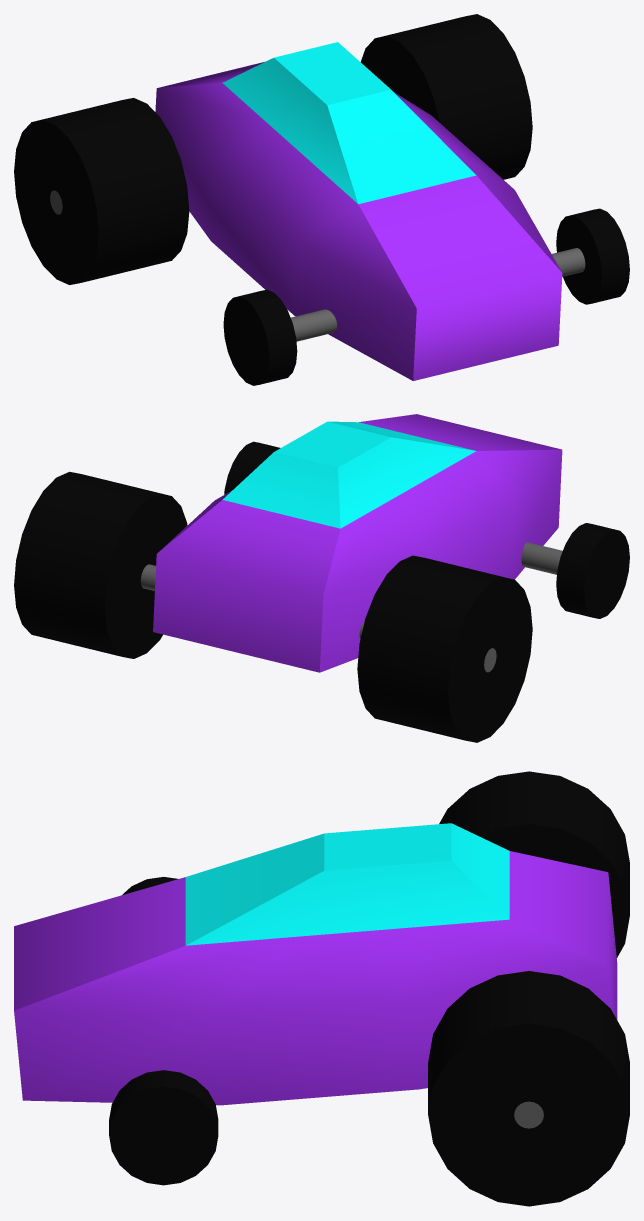
File: Hero.fbx
3 renders of one model, top to bottom at view 1: azimuth 30°, elevation 25°; view 2: azimuth 150°, elevation 25°; view 3: azimuth 270°, elevation 25°, orthographic. The views are drawn at different scales.
Parts seen in each view (by area): view 1: Body, Wheel1, Wheel2, Wheel4, Wheel3, Axle1; view 2: Body, Wheel1, Wheel2, Wheel4, Wheel3, Axle1, Axle2; view 3: Body, Wheel2, Wheel1, Wheel3, Axle2.
Boxes of the visible parts, x1=… form: Body: x1=155, y1=42, x2=562, y2=380; Wheel1: x1=14, y1=98, x2=189, y2=284; Wheel2: x1=361, y1=14, x2=532, y2=179; Wheel4: x1=223, y1=289, x2=297, y2=385; Wheel3: x1=556, y1=208, x2=629, y2=304; Axle1: x1=291, y1=248, x2=585, y2=341; Body: x1=153, y1=414, x2=562, y2=672; Wheel1: x1=357, y1=555, x2=532, y2=742; Wheel2: x1=14, y1=471, x2=187, y2=658; Wheel4: x1=556, y1=523, x2=629, y2=618; Wheel3: x1=224, y1=441, x2=280, y2=494; Axle1: x1=521, y1=542, x2=562, y2=574; Axle2: x1=140, y1=564, x2=496, y2=672; Body: x1=14, y1=823, x2=617, y2=1105; Wheel2: x1=428, y1=971, x2=629, y2=1206; Wheel1: x1=439, y1=771, x2=629, y2=957; Wheel3: x1=109, y1=1070, x2=218, y2=1185; Axle2: x1=514, y1=1101, x2=543, y2=1128.
Bounding box in the file's own units: 4 × 1.77 × 4.13.
